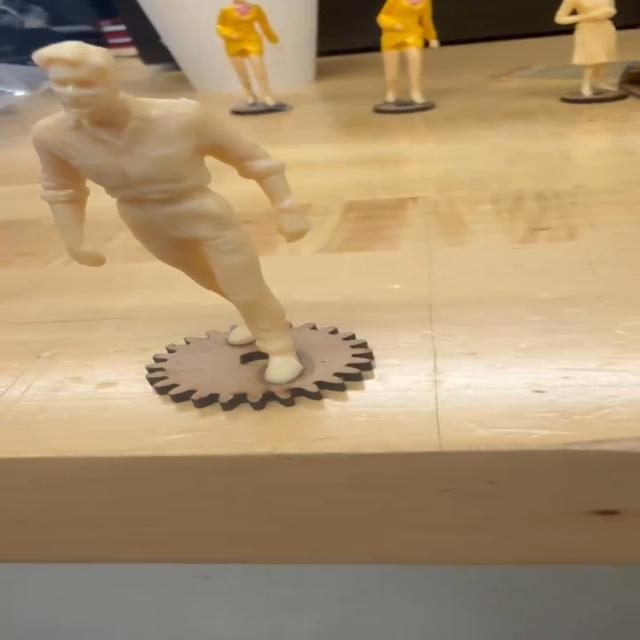Unauthorized: (11, 26, 314, 394)
